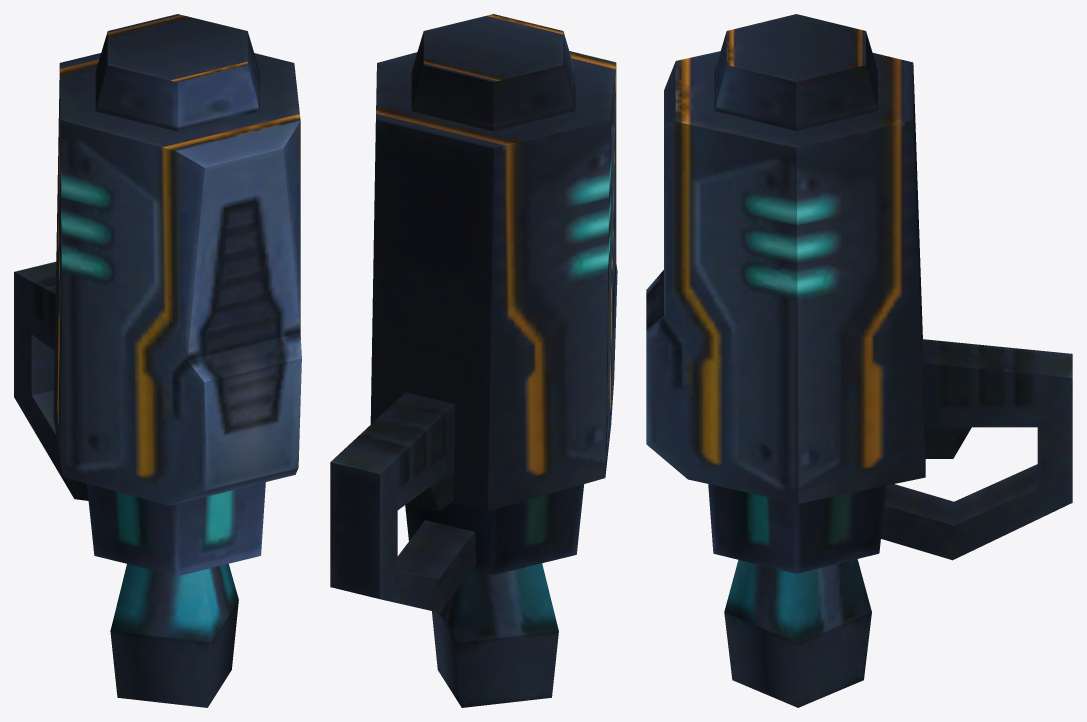
Rendered from Weapon_IonCannon_02_5b2fe5c8__Weapon_IonCannon_99017211_c1f257.obj.
3 views of the same model, side by side, from view 1: azimuth 30°, elevation 25°; view 2: azimuth 150°, elevation 25°; view 3: azimuth 270°, elevation 25° (orthographic).
Bounding box in the file's own units: 0.394 × 1.03 × 0.6262.
Materials: 1 (1 with a texture image).
